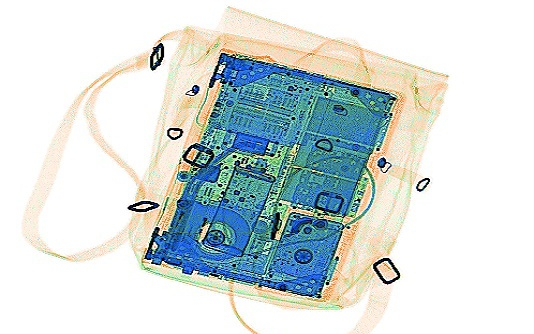zippooil: (199, 162, 275, 259)
